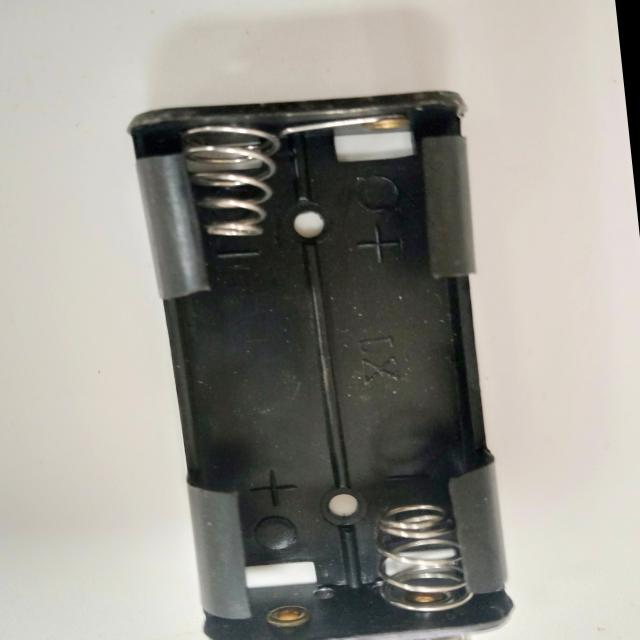Ripple Tank Power Supply: (88, 66, 569, 640)
